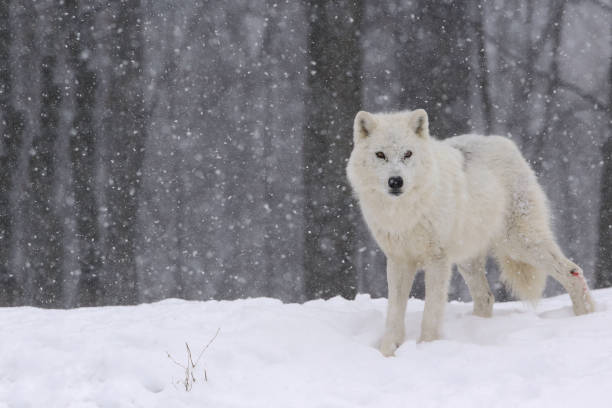arcticfox: (355, 117, 434, 204)
